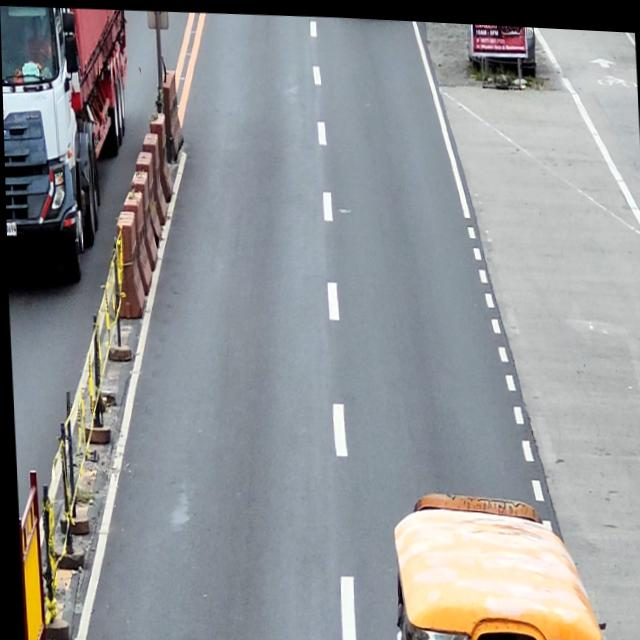Jeep: (385, 483, 600, 640)
License-Plate: (5, 221, 15, 236)
Truck: (0, 3, 137, 289)
